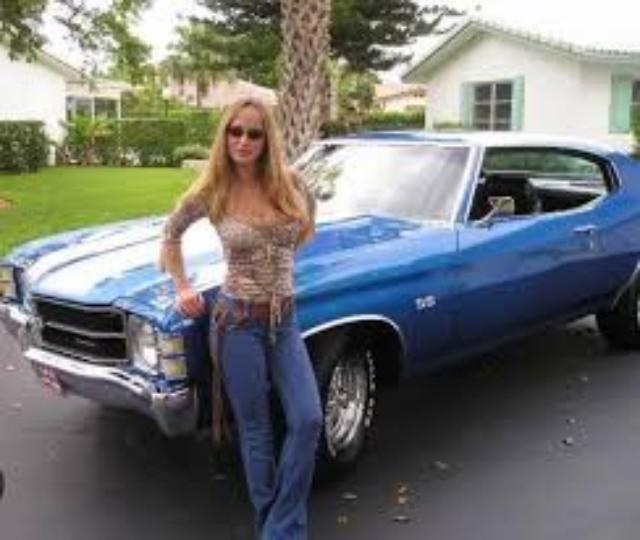chevelle-1972: (294, 131, 637, 477), (0, 215, 207, 435)
